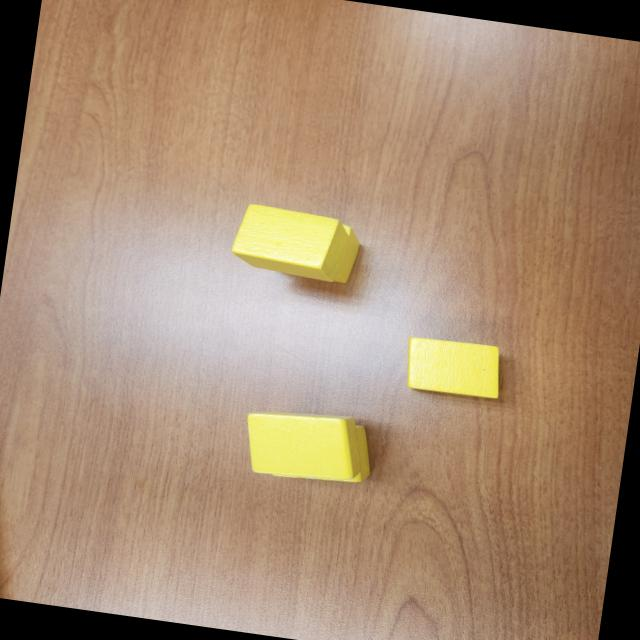yellow: (238, 402, 370, 488), (229, 202, 354, 285), (265, 411, 380, 490), (400, 332, 508, 400), (272, 214, 365, 287)
